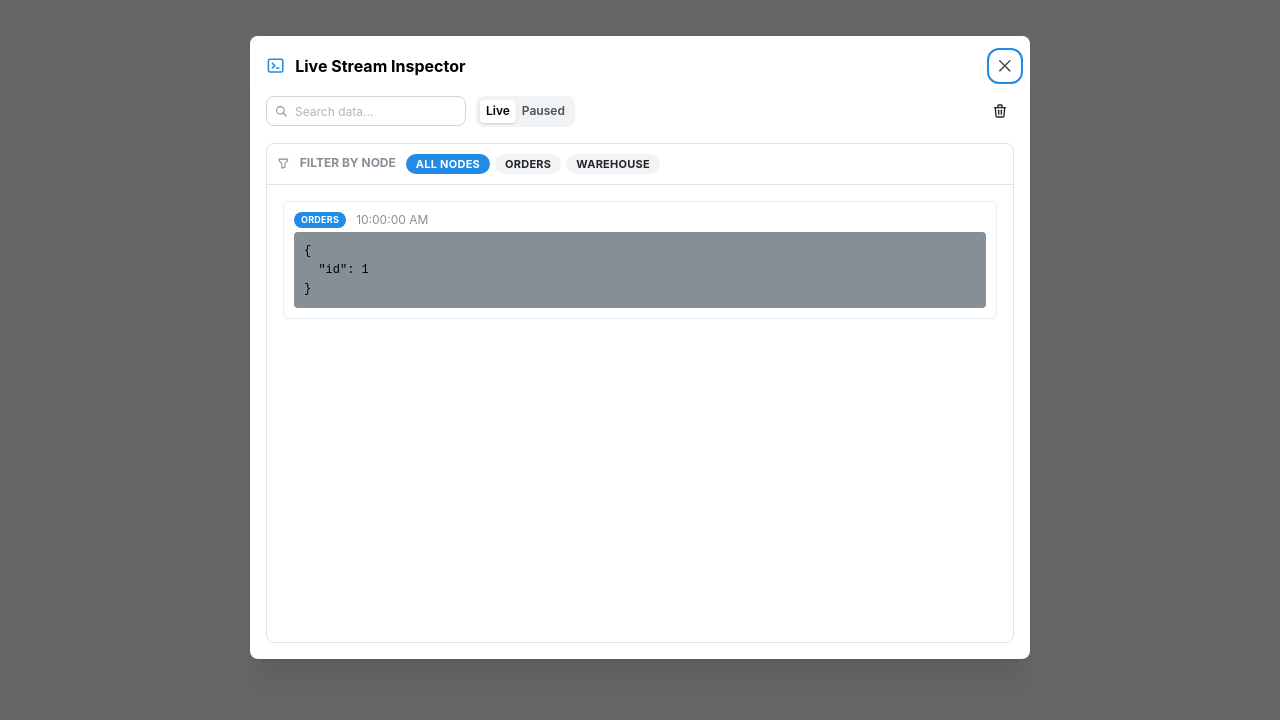
live stream inspector › says a filter is hiding messages rather than that none have arrived
The width and height of the screenshot is (1280, 720).
Check: the text "{ \"id\": 1 }" is shown, box [294,232,986,308]
Step 1. Click the button "Warehouse" → x=613, y=164, box [566,154,660,174]
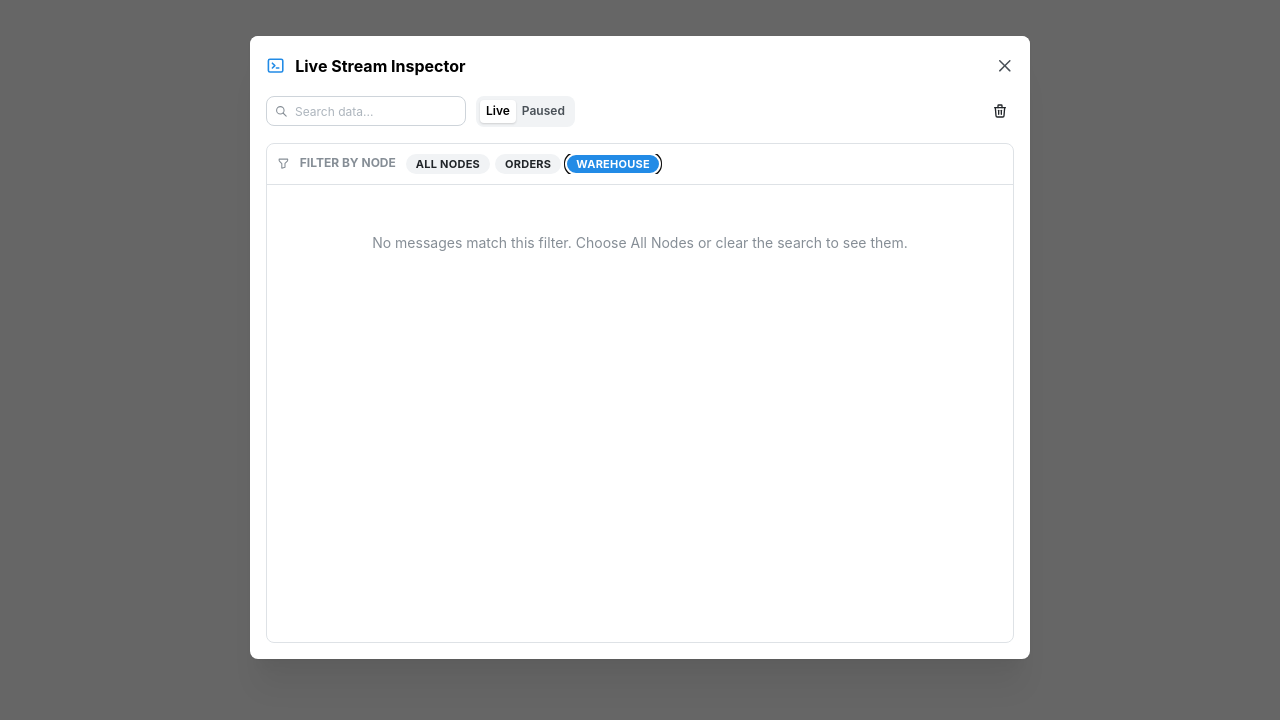
Check: the text "No messages match this filter" is shown, box [372,234,908,251]
